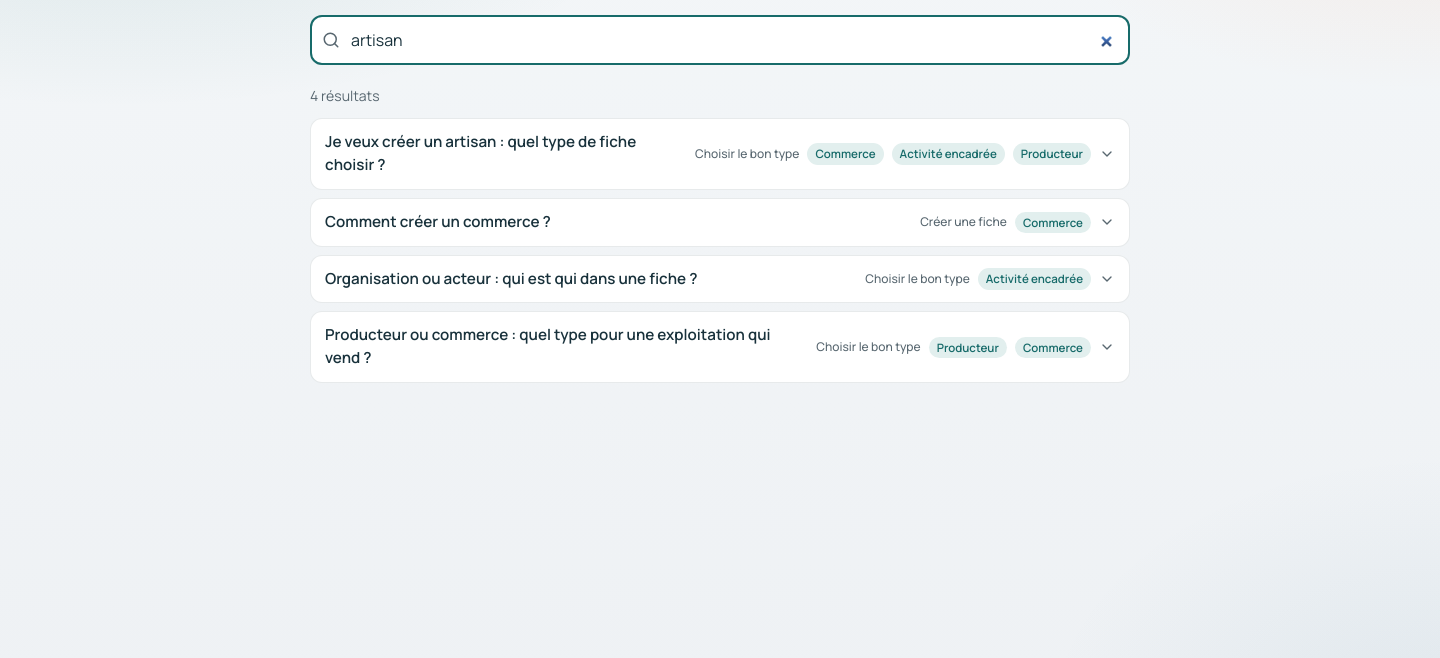
Test: HelpPage › navigation « Voir aussi » depuis la recherche efface q
Click the button "Je veux créer un artisan". click: (720, 154)
box: [311, 119, 1129, 189]
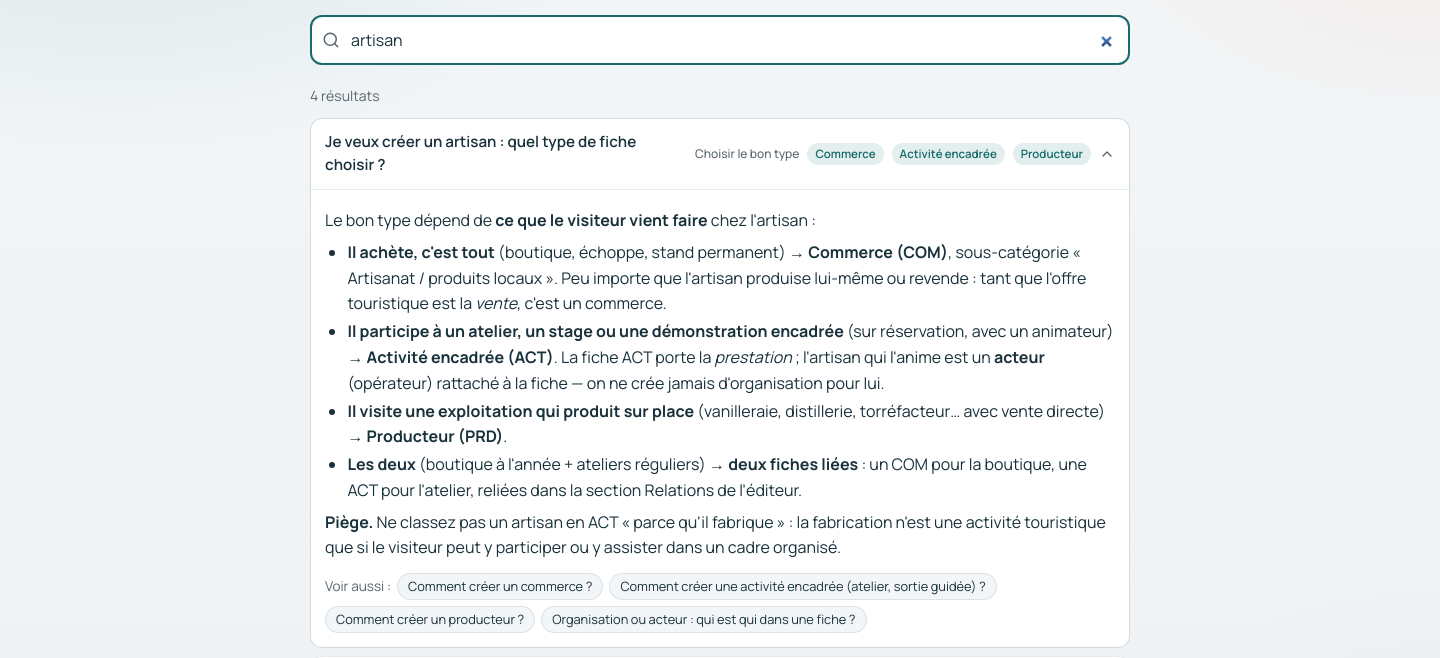
Click the button "Comment créer un commerce ?". click: (500, 586)
box: [397, 573, 603, 600]
(page scrolled)
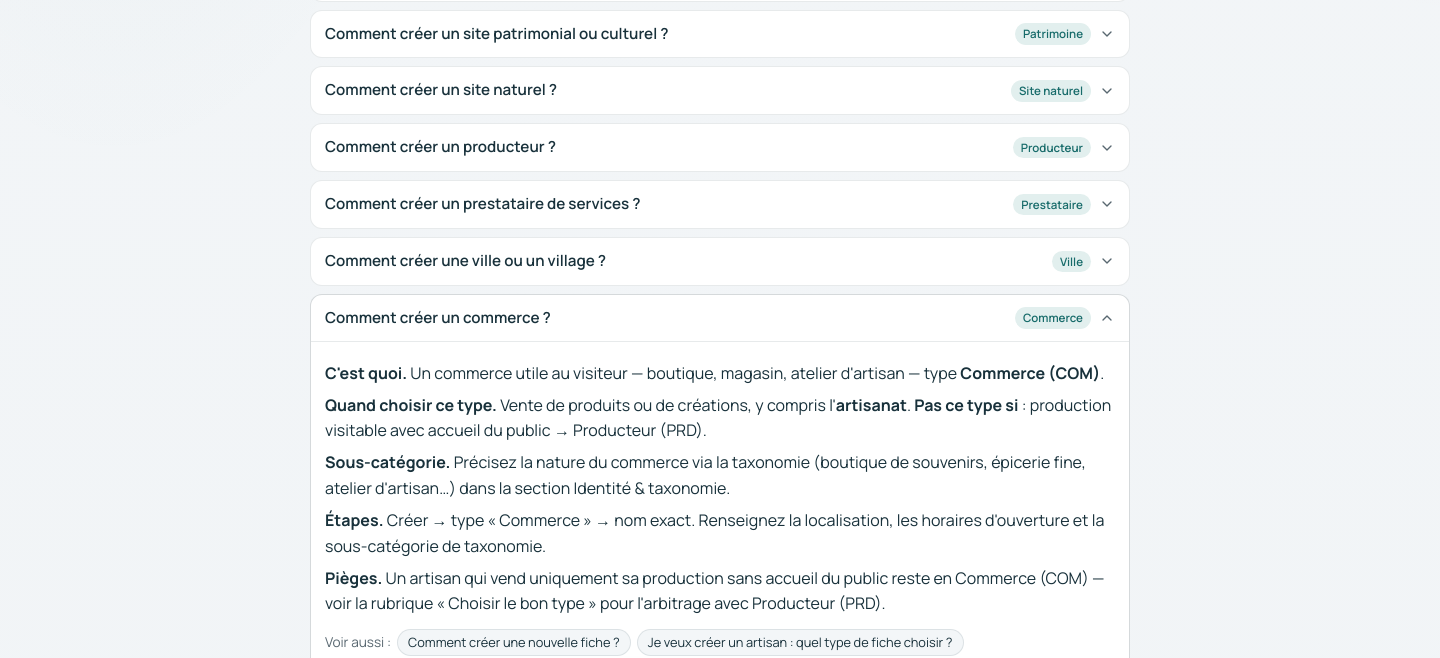
expect the message "4 résultats" is gone: met
expect the button "Comment créer un commerce ? Commerce" is expanded: met, box [311, 295, 1129, 342]
